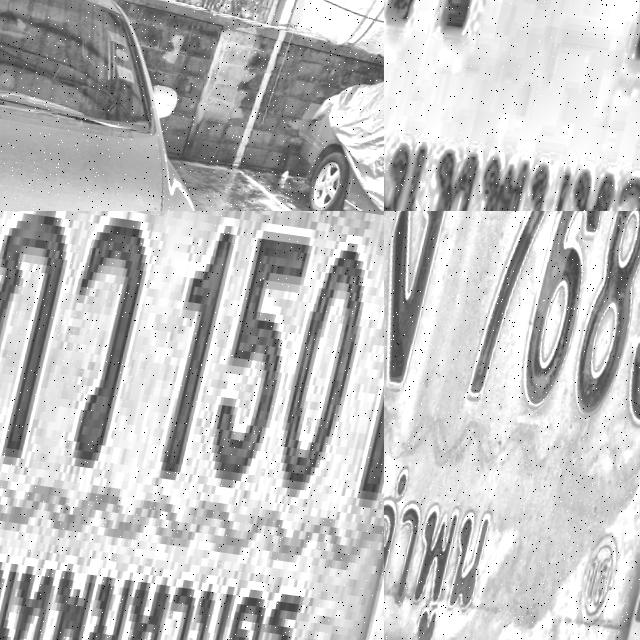license-plate: (0, 211, 384, 640), (384, 211, 640, 640), (384, 0, 640, 211)
